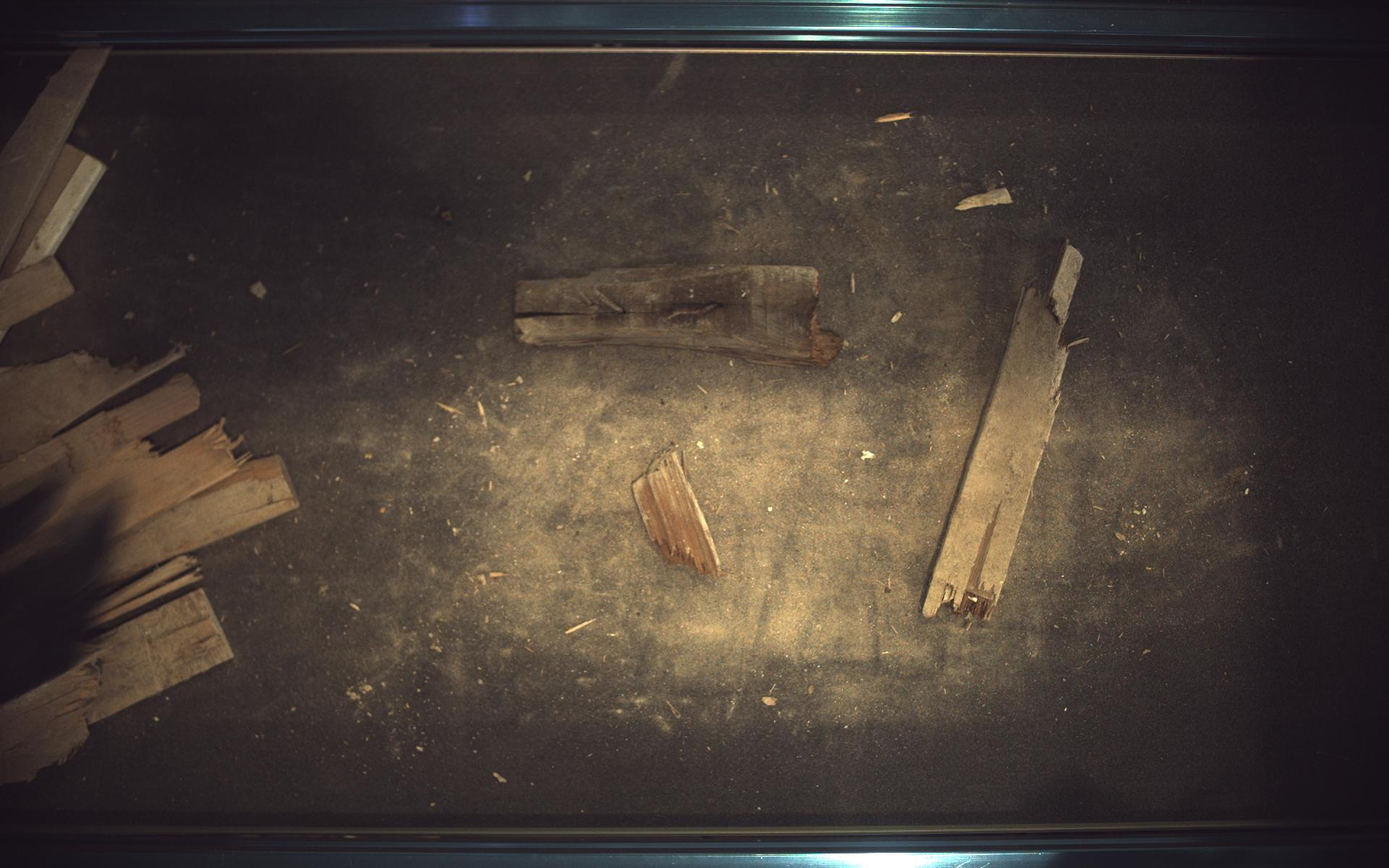wood: (924, 243, 1085, 621), (1, 421, 245, 573), (515, 265, 844, 367), (1, 373, 199, 509), (95, 456, 298, 587), (1, 47, 109, 265), (1, 345, 186, 464), (84, 590, 232, 725), (1, 143, 105, 277), (1, 654, 100, 786), (634, 446, 723, 578), (82, 556, 202, 634), (1, 258, 74, 332)
